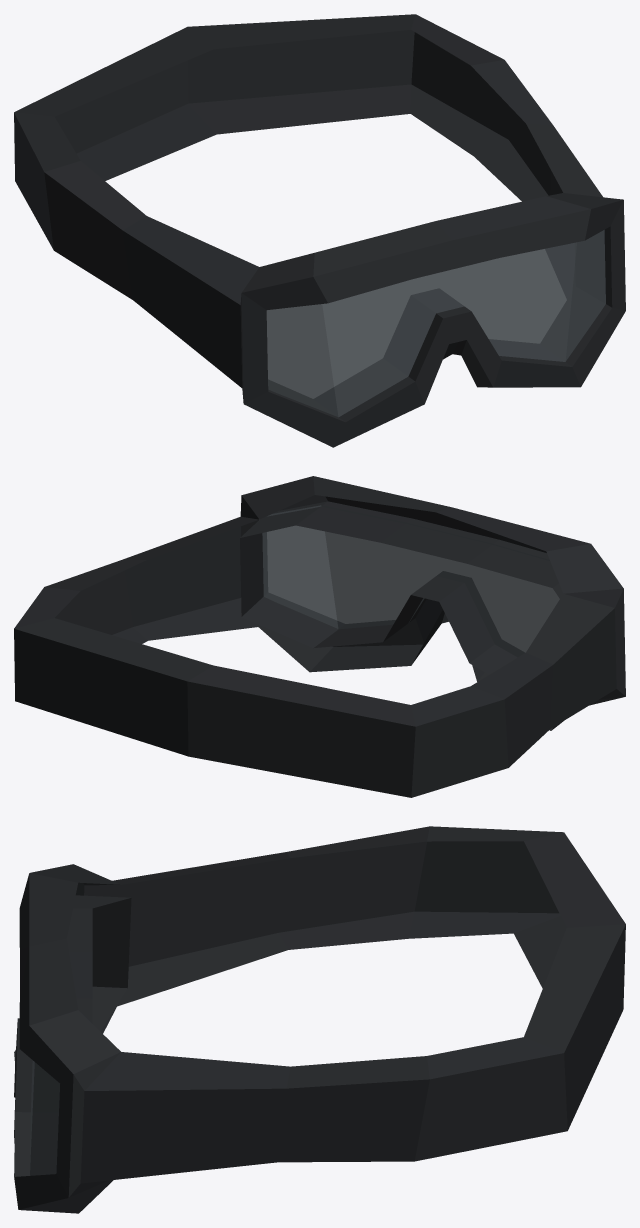
File: SM_Chr_Attach_Goggles_Strap_01.fbx
3 views of the same model, one above another, from view 1: azimuth 30°, elevation 25°; view 2: azimuth 150°, elevation 25°; view 3: azimuth 270°, elevation 25° (orthographic). The views are drawn at different scales.
Parts seen in each view (by area): view 1: SM_Chr_Attach_Goggles_Strap_01, SM_Chr_Attach_Goggles_Strap_01_Glass; view 2: SM_Chr_Attach_Goggles_Strap_01, SM_Chr_Attach_Goggles_Strap_01_Glass; view 3: SM_Chr_Attach_Goggles_Strap_01, SM_Chr_Attach_Goggles_Strap_01_Glass.
Boxes of the visible parts, <box> form: SM_Chr_Attach_Goggles_Strap_01: <box>14,14,625,447</box>; SM_Chr_Attach_Goggles_Strap_01_Glass: <box>266,230,605,417</box>; SM_Chr_Attach_Goggles_Strap_01: <box>14,476,625,797</box>; SM_Chr_Attach_Goggles_Strap_01_Glass: <box>259,505,559,657</box>; SM_Chr_Attach_Goggles_Strap_01: <box>14,826,625,1213</box>; SM_Chr_Attach_Goggles_Strap_01_Glass: <box>30,1060,59,1175</box>.
Bounding box in the file's own units: 27.03 × 11.11 × 27.62.
